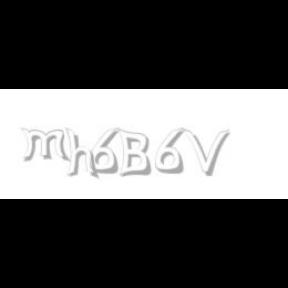6: (154, 128, 184, 176), (90, 128, 118, 176)
B: (117, 128, 151, 178)
V: (182, 128, 230, 176)
h: (65, 128, 100, 180)
m: (19, 128, 71, 162)
